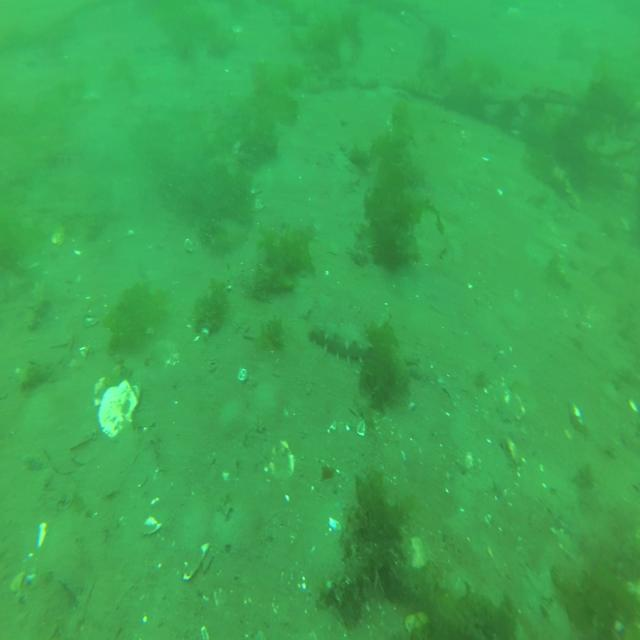holothurian: (307, 321, 373, 366), (28, 278, 50, 331)
scallop: (97, 378, 139, 441), (268, 439, 295, 481)
